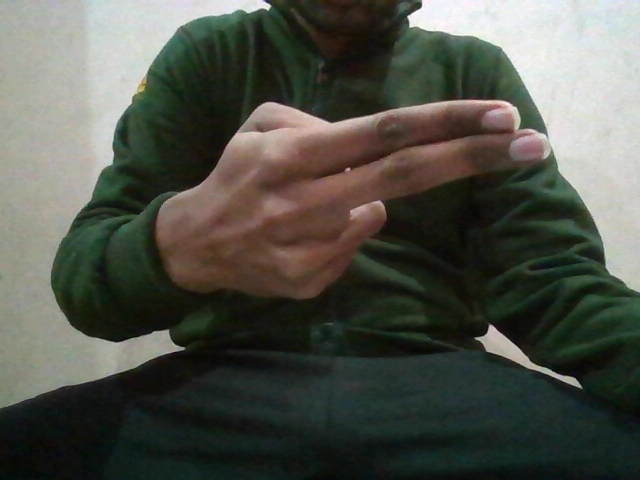H: (171, 93, 554, 302)
